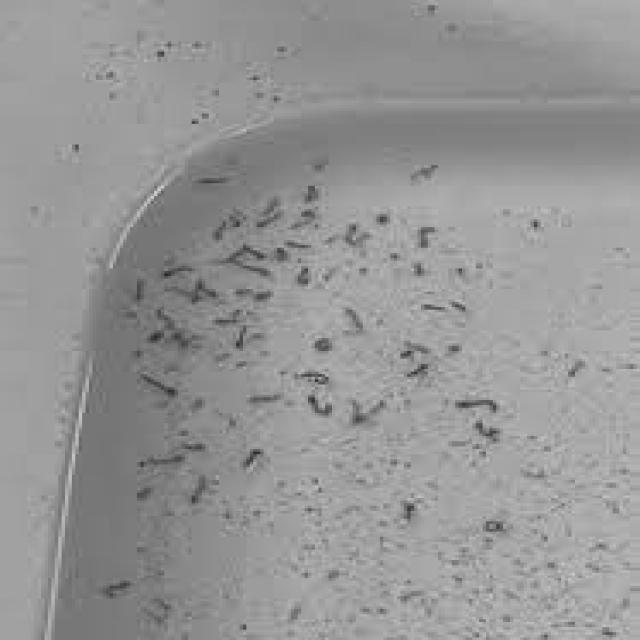larvas: (352, 397, 390, 426), (231, 254, 275, 276), (139, 374, 176, 396), (304, 394, 334, 418), (474, 415, 500, 442), (563, 357, 588, 383), (106, 577, 134, 600), (299, 367, 330, 387), (139, 454, 182, 468), (458, 397, 500, 411), (344, 222, 369, 245), (256, 192, 281, 215), (414, 228, 440, 250), (192, 475, 210, 505), (150, 314, 172, 338), (133, 279, 152, 304), (343, 309, 363, 332), (196, 176, 237, 187), (444, 295, 472, 311), (294, 269, 316, 289), (313, 335, 335, 355), (232, 326, 252, 348), (210, 217, 229, 240), (171, 288, 198, 304), (163, 264, 198, 276), (194, 279, 217, 297), (253, 213, 282, 227), (243, 450, 263, 470), (404, 339, 426, 357), (402, 363, 430, 377), (246, 392, 284, 402), (242, 243, 263, 261), (178, 442, 206, 454), (420, 302, 448, 312), (285, 240, 309, 250), (483, 520, 502, 532)
